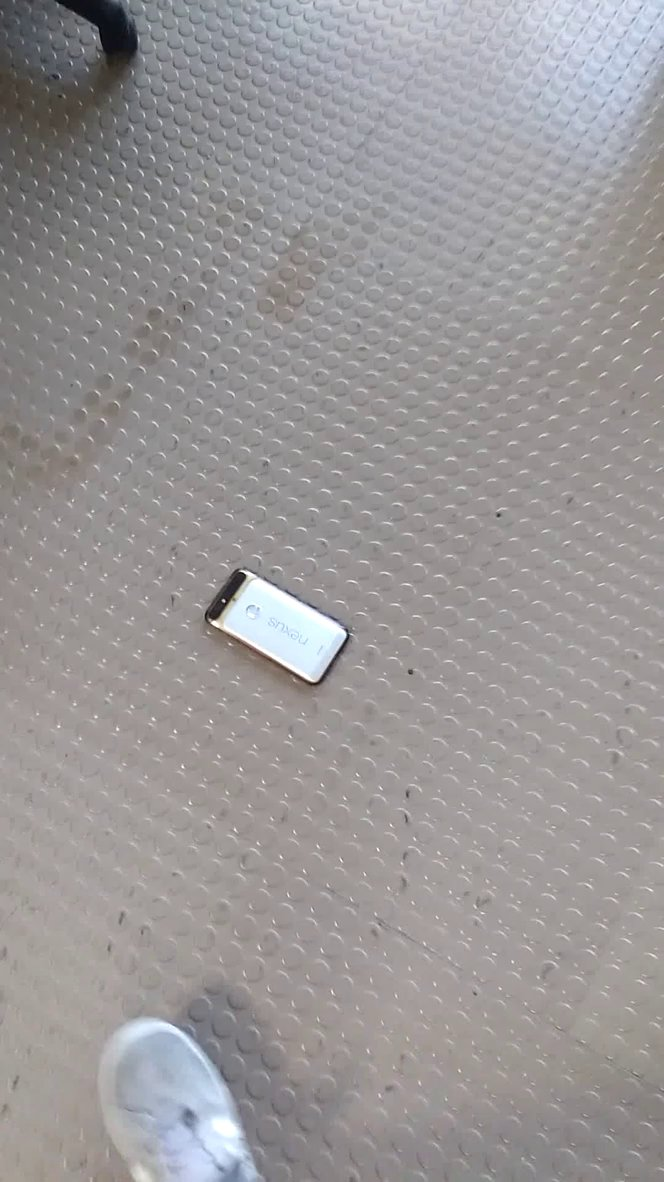phone: (196, 558, 360, 694)
